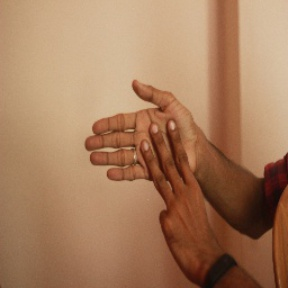M: (84, 77, 205, 220)
